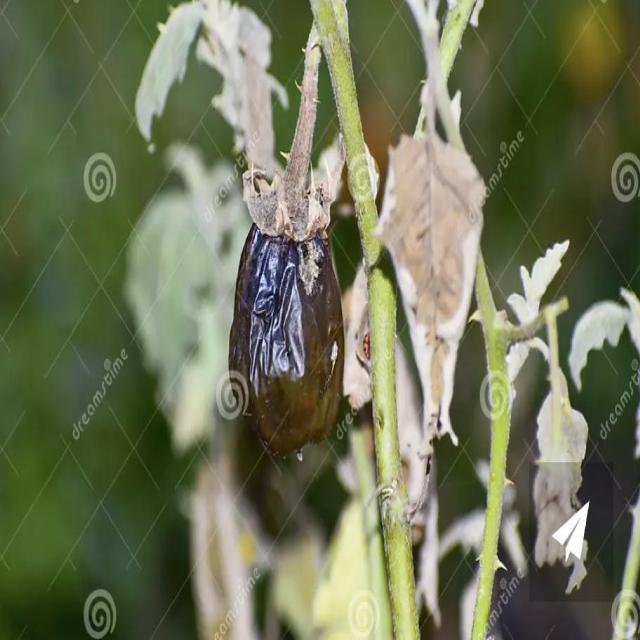eggplant: (226, 24, 344, 456)
